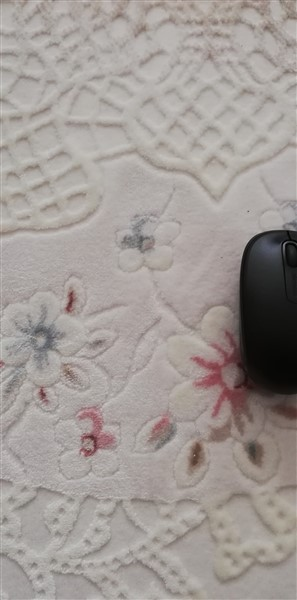mouse: (234, 227, 297, 398)
